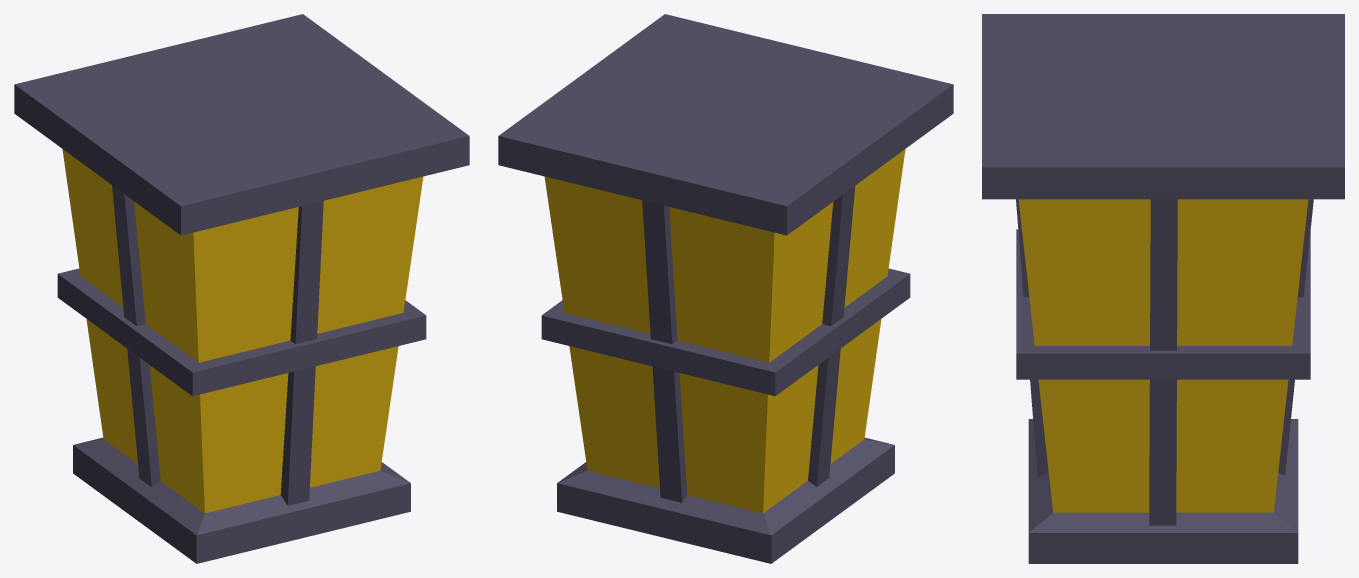
The model's file is lantern2.fbx.
3 views of the same model, side by side, from view 1: azimuth 30°, elevation 25°; view 2: azimuth 150°, elevation 25°; view 3: azimuth 270°, elevation 25° (orthographic). The views are drawn at different scales.
Visible parts, largest first — view 1: Cube; view 2: Cube; view 3: Cube.
Part boxes in pixels (x1,y1,x2,y2): Cube: [14, 14, 469, 563]; Cube: [498, 14, 953, 563]; Cube: [982, 14, 1344, 563].
Size of the model in its own units: 247 by 313 by 247.
